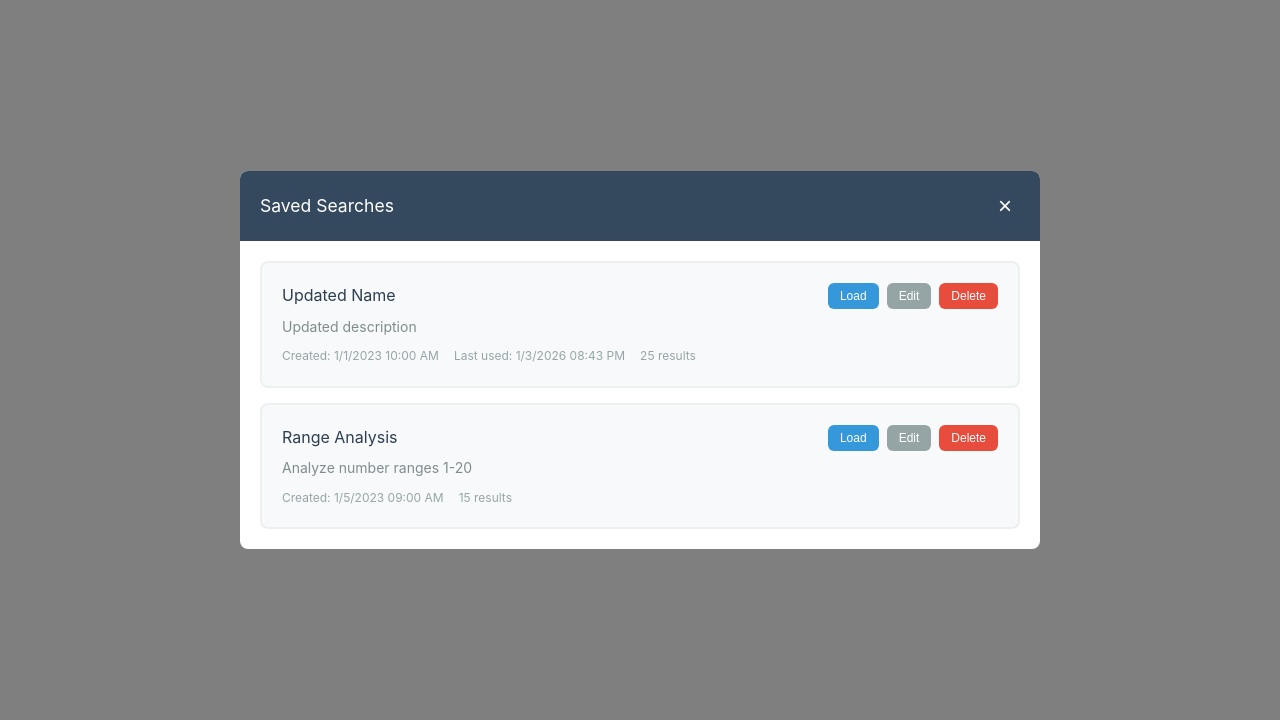
Test: SavedSearches › opens delete confirmation dialog when Delete button is clicked
The width and height of the screenshot is (1280, 720).
Click the button with class "btn-danger" in the row of "Updated Name".
click(969, 296)  # box [939,283,998,309]
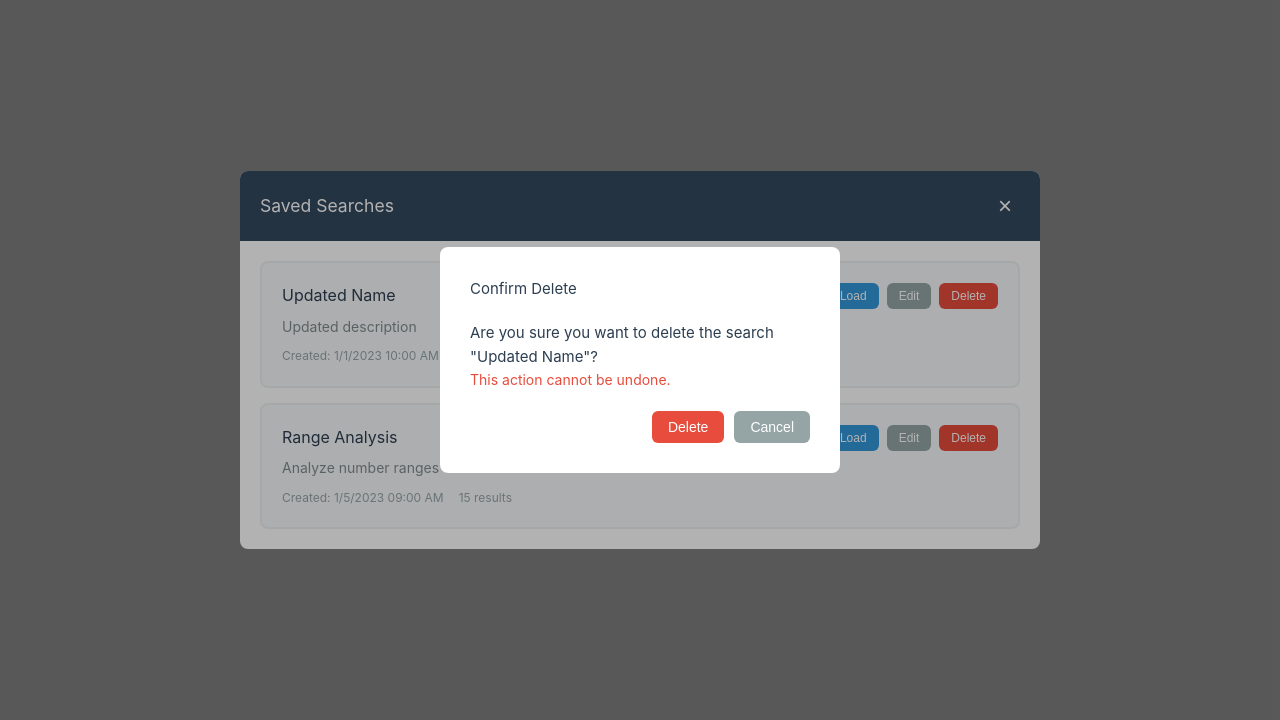
Expected: the element with class "delete-dialog" is shown, [440,247,840,473]
